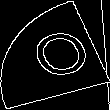O_S: (19, 24, 91, 86)
